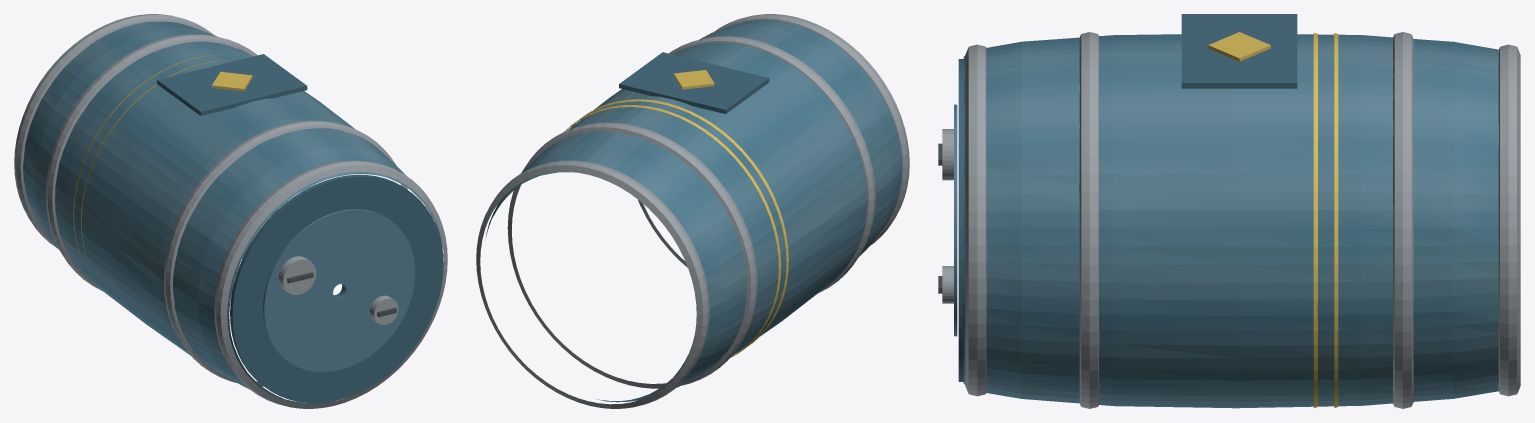
Rendered from barril_combustible.glb.
3 views of the same model, side by side, from view 1: azimuth 30°, elevation 25°; view 2: azimuth 150°, elevation 25°; view 3: azimuth 270°, elevation 25° (orthographic). The views are drawn at different scales.
Visible parts, largest first — view 1: barrel_body_0, top_lid_5, lid_center_6, top_rim_2, front_label_plate_13, upper_hoop_4, lower_hoop_3, bottom_rim_1, filler_cap_7, hazard_diamond_14, filler_cap_9, safety_stripe_11; view 2: barrel_body_0, bottom_rim_1, lower_hoop_3, front_label_plate_13, upper_hoop_4, top_rim_2, safety_stripe_11, safety_stripe_12, hazard_diamond_14; view 3: barrel_body_0, bottom_rim_1, lower_hoop_3, front_label_plate_13, top_rim_2, upper_hoop_4, top_lid_5, safety_stripe_11, safety_stripe_12, hazard_diamond_14, lid_center_6, filler_cap_7.
Part boxes in pixels (left/top/right/bottom): barrel_body_0: left=23, top=21, right=442, bottom=404; top_lid_5: left=230, top=174, right=443, bottom=403; lid_center_6: left=263, top=209, right=415, bottom=372; top_rim_2: left=214, top=160, right=447, bottom=408; front_label_plate_13: left=157, top=54, right=307, bottom=115; upper_hoop_4: left=163, top=120, right=407, bottom=386; lower_hoop_3: left=45, top=34, right=277, bottom=291; bottom_rim_1: left=14, top=14, right=213, bottom=248; filler_cap_7: left=278, top=256, right=316, bottom=294; hazard_diamond_14: left=212, top=71, right=252, bottom=91; filler_cap_9: left=369, top=295, right=398, bottom=324; safety_stripe_11: left=73, top=54, right=220, bottom=252; barrel_body_0: left=485, top=20, right=901, bottom=402; bottom_rim_1: left=476, top=160, right=709, bottom=408; lower_hoop_3: left=507, top=122, right=757, bottom=388; front_label_plate_13: left=619, top=52, right=769, bottom=113; upper_hoop_4: left=638, top=36, right=875, bottom=292; top_rim_2: left=714, top=14, right=909, bottom=245; safety_stripe_11: left=564, top=105, right=781, bottom=357; safety_stripe_12: left=570, top=99, right=788, bottom=352; hazard_diamond_14: left=674, top=70, right=714, bottom=89; barrel_body_0: left=963, top=34, right=1498, bottom=408; bottom_rim_1: left=1498, top=44, right=1520, bottom=396; lower_hoop_3: left=1393, top=32, right=1413, bottom=408; front_label_plate_13: left=1181, top=14, right=1297, bottom=88; top_rim_2: left=965, top=44, right=986, bottom=396; upper_hoop_4: left=1079, top=32, right=1099, bottom=408; top_lid_5: left=958, top=59, right=963, bottom=381; safety_stripe_11: left=1334, top=33, right=1338, bottom=407; safety_stripe_12: left=1313, top=33, right=1317, bottom=407; hazard_diamond_14: left=1208, top=32, right=1270, bottom=61; lid_center_6: left=954, top=104, right=957, bottom=336; filler_cap_7: left=942, top=129, right=953, bottom=180.
Bounding box in the file's own units: 1.11 × 1.12 × 1.71.
